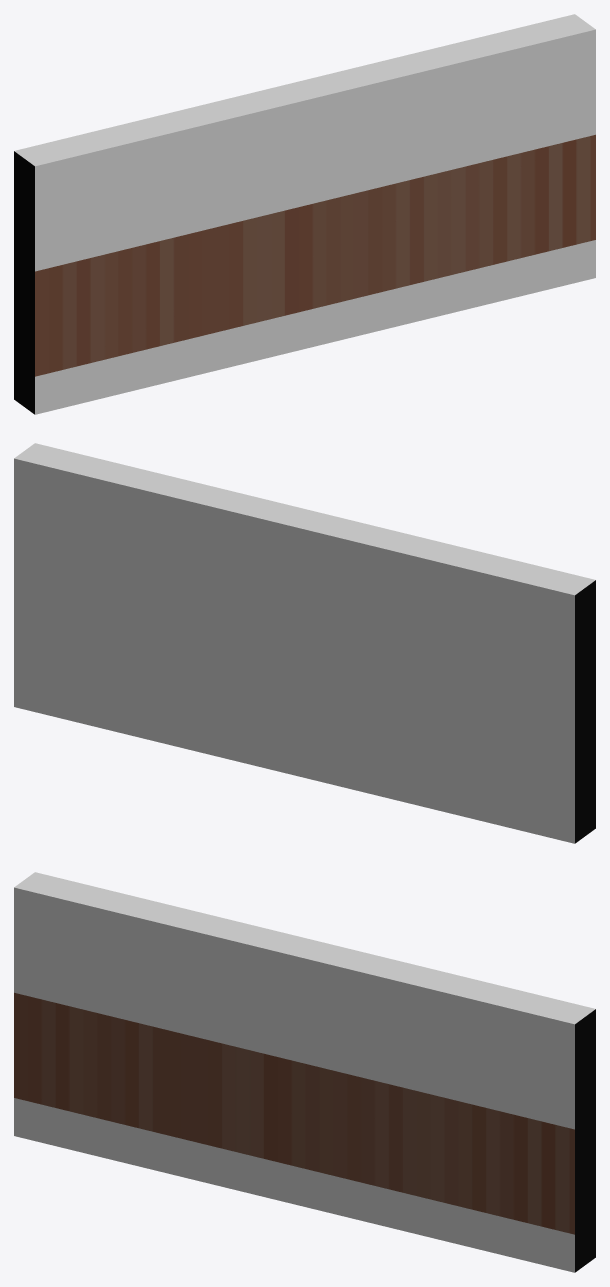
File: wall.glb
3 renders of one model, top to bottom at view 1: azimuth 30°, elevation 25°; view 2: azimuth 150°, elevation 25°; view 3: azimuth 330°, elevation 25°, orthographic.
Visible parts, largest first — view 1: Pared Arriba; view 2: Pared Arriba; view 3: Pared Arriba.
Part boxes in pixels (x1,y1,x2,y2): Pared Arriba: (14, 14, 595, 414); Pared Arriba: (14, 443, 595, 843); Pared Arriba: (14, 872, 595, 1272).
Bounding box in the file's own units: 9.41 × 3.98 × 0.6119.
Materials: 3 (1 with a texture image).
